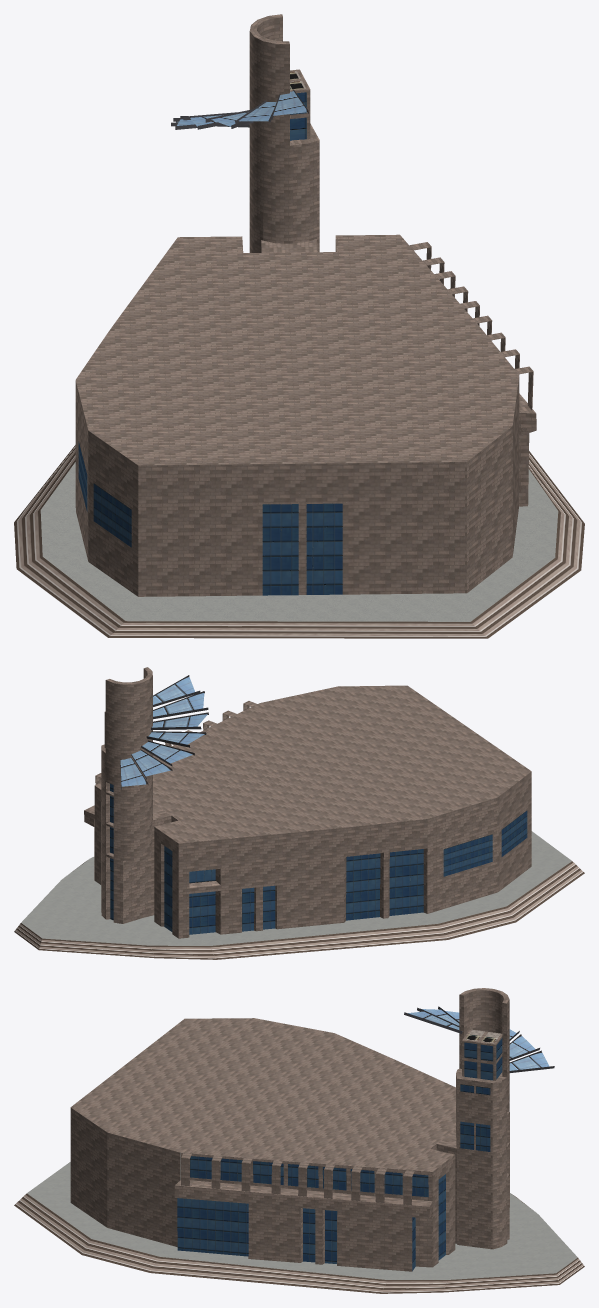
The model's file is Canada_track_landmark_04.dae.
3 views of the same model, one above another, from view 1: azimuth 30°, elevation 25°; view 2: azimuth 150°, elevation 25°; view 3: azimuth 270°, elevation 25° (orthographic). The views are drawn at different scales.
Parts seen in each view (by area): view 1: Canada_track_landmark_04; view 2: Canada_track_landmark_04; view 3: Canada_track_landmark_04.
Part boxes in pixels (box(x1,y1,x2,y2)): Canada_track_landmark_04: box(14, 14, 584, 638); Canada_track_landmark_04: box(14, 667, 584, 959); Canada_track_landmark_04: box(14, 988, 584, 1293).
Bounding box in the file's own units: 10.02 × 12.78 × 6.23.
Materials: 6 (6 with a texture image).
